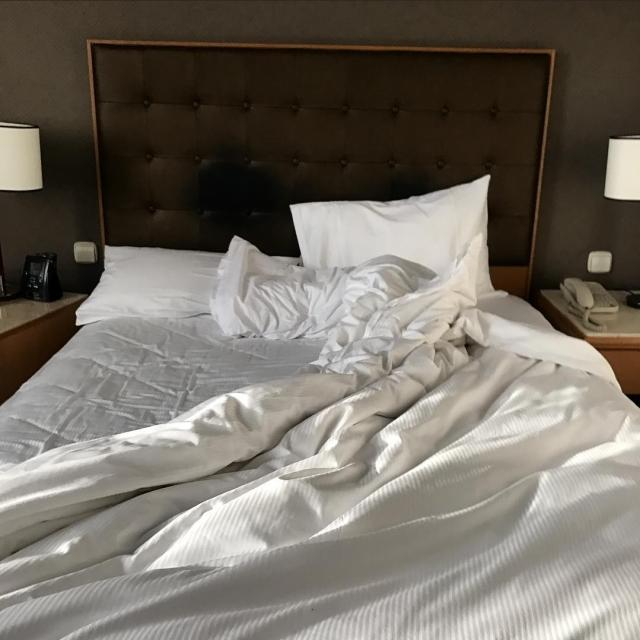bed: (0, 196, 626, 631)
